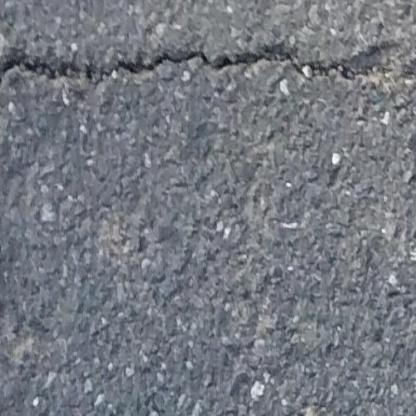Cracks: (0, 44, 416, 106)
